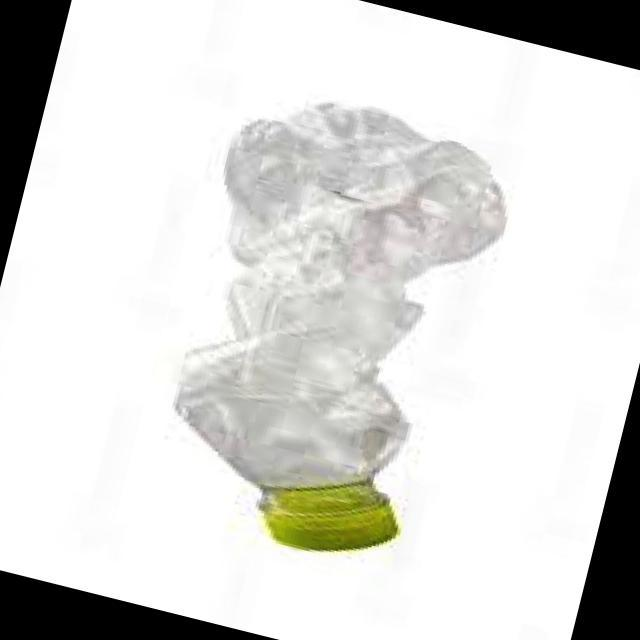defected: (120, 75, 533, 578)
